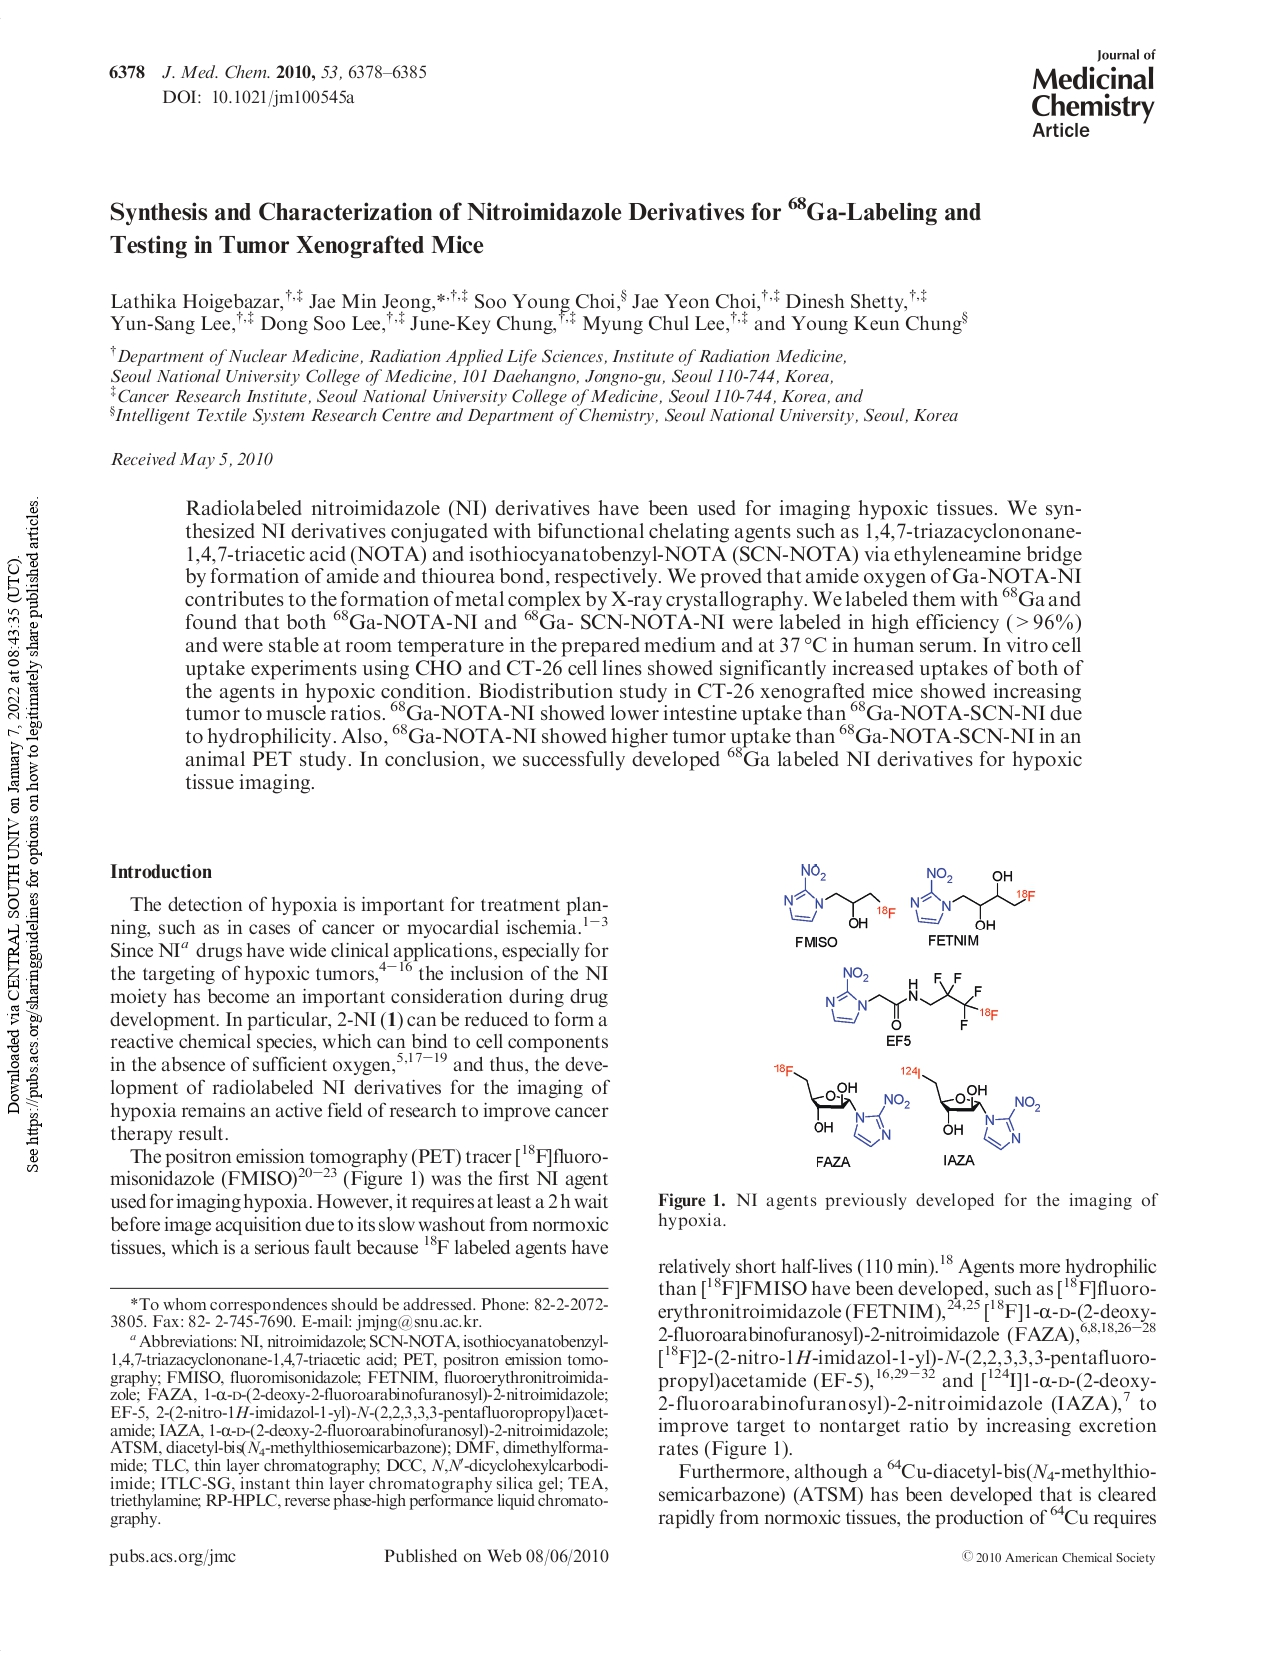exist_molecular: (899, 1065, 1043, 1153), (773, 1060, 912, 1148), (824, 964, 1000, 1033), (910, 864, 1039, 932), (783, 862, 898, 930)
